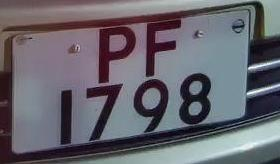1: (48, 83, 84, 149)
7: (80, 80, 127, 143)
8: (173, 68, 218, 129)
9: (130, 72, 176, 136)
F: (137, 19, 188, 79)
P: (85, 20, 145, 88)
